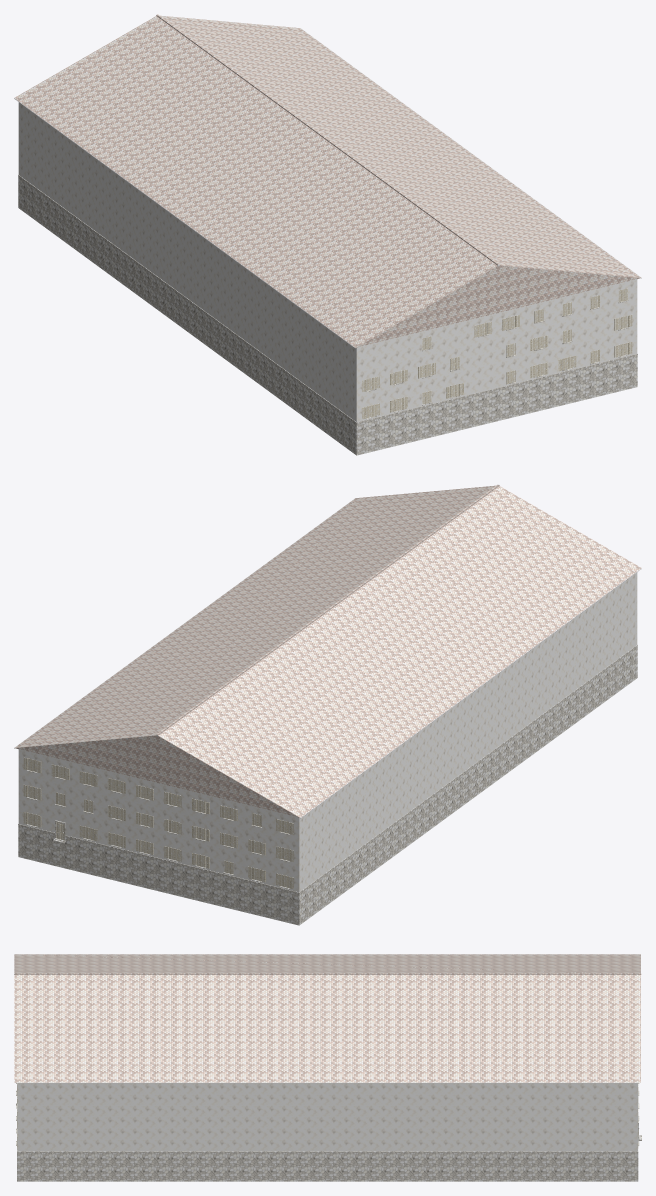
The picture shows the model from 3 angles, top to bottom: view 1: azimuth 30°, elevation 25°; view 2: azimuth 150°, elevation 25°; view 3: azimuth 270°, elevation 25°; orthographic projection. The views are drawn at different scales.
Parts seen in each view (by area): view 1: b1082825663; view 2: b1082825663; view 3: b1082825663.
Part boxes in pixels (box(x1,y1,x2,y2)): b1082825663: box(14, 14, 641, 455); b1082825663: box(14, 484, 641, 925); b1082825663: box(14, 954, 641, 1181).
Bounding box in the file's own units: 34.26 × 18.01 × 70.72.
16 materials, 16 textured.
